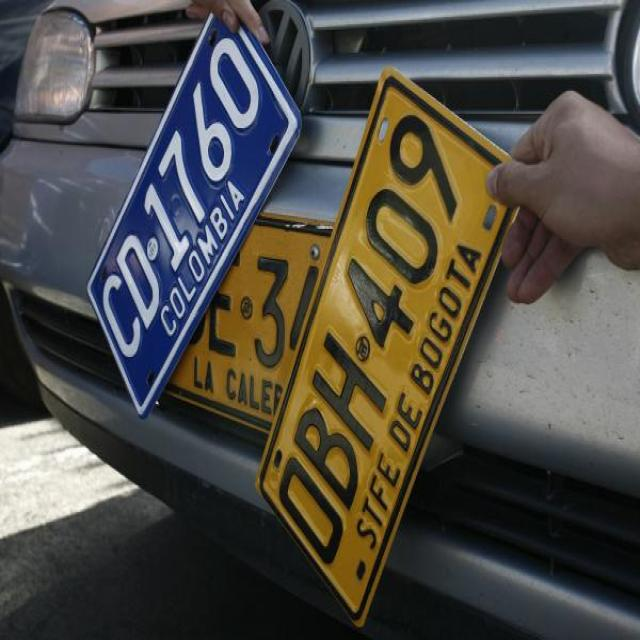placa_carro: (256, 73, 529, 627), (84, 0, 305, 420)
